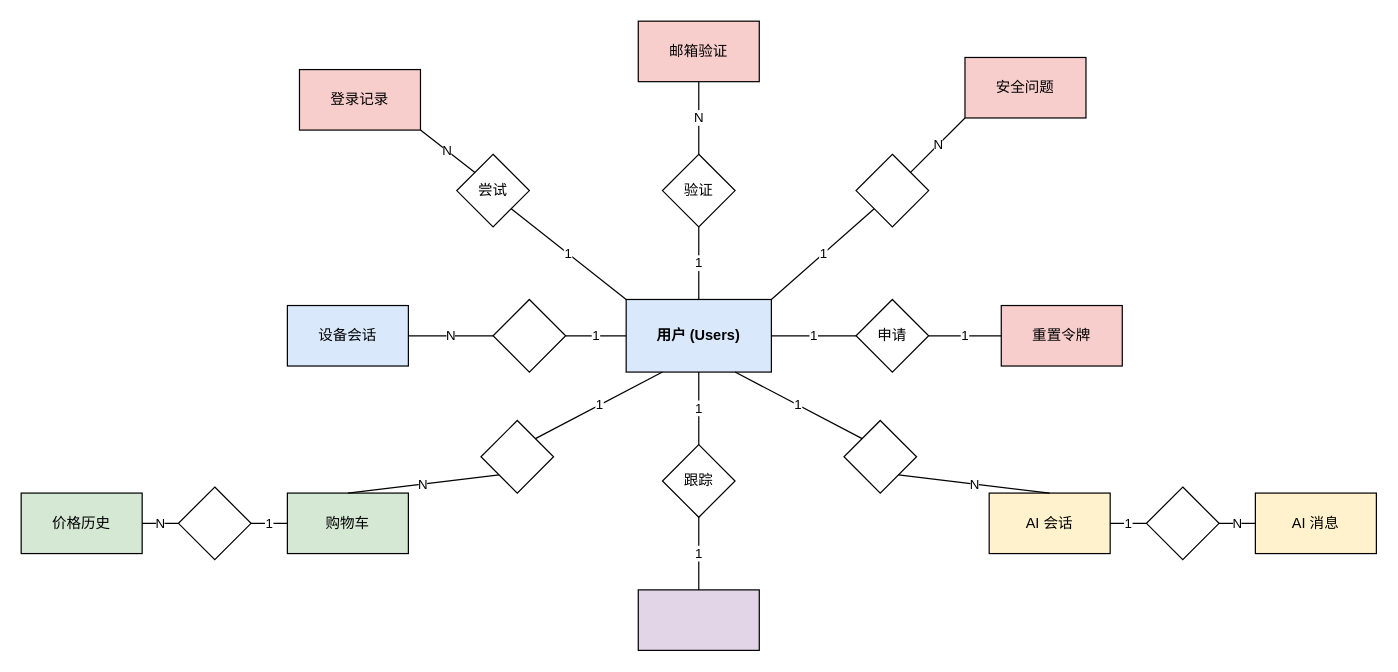
Image size: 1398x672. Some labels were removed from this diagram. The centre of each missing label's shape, as x and y in pixels:
"加入" belongs at point 517,456.
"包含" belongs at point 1182,523.
"历史" belongs at point 214,523.
"发起" belongs at point 880,456.
"版本跟踪" belongs at point 698,619.
"登录" belongs at point 529,335.
"设置" belongs at point 892,190.
